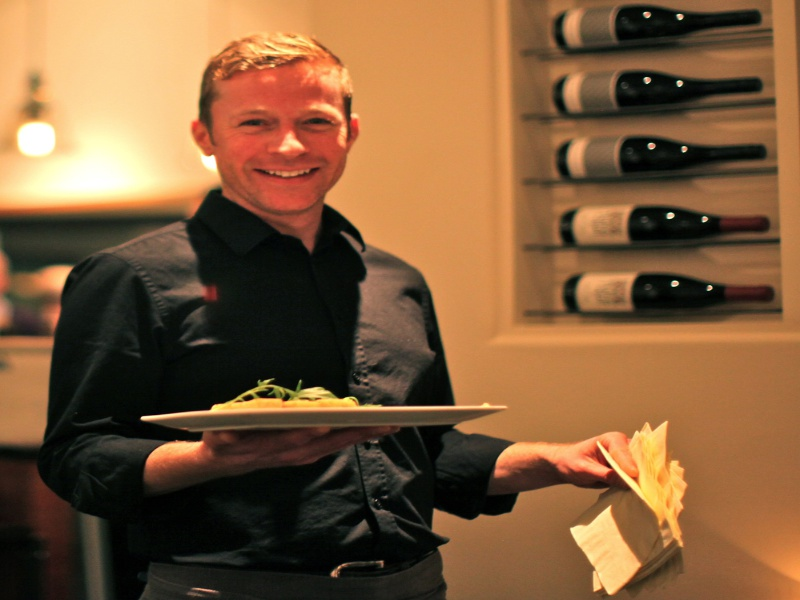wine: (543, 4, 779, 324)
